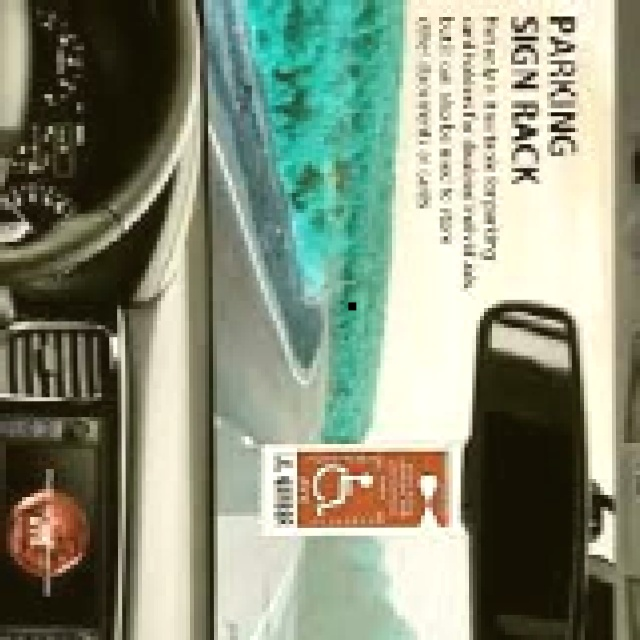ISA: (310, 461, 372, 513)
